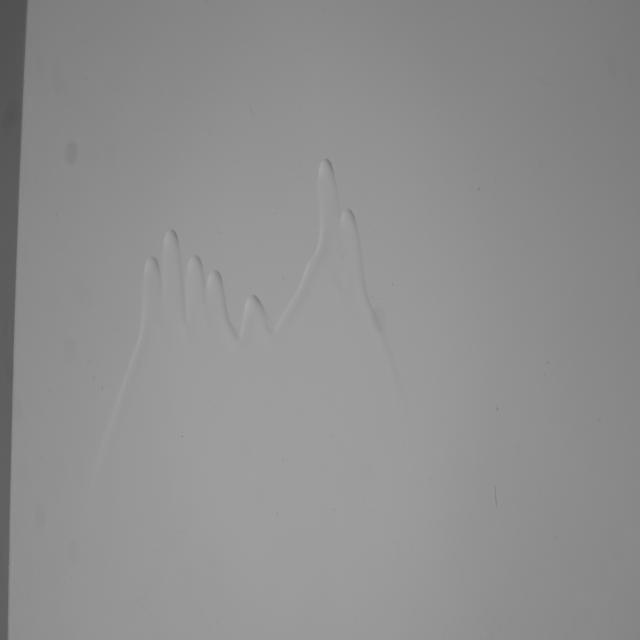paint drips: (68, 150, 418, 500)
